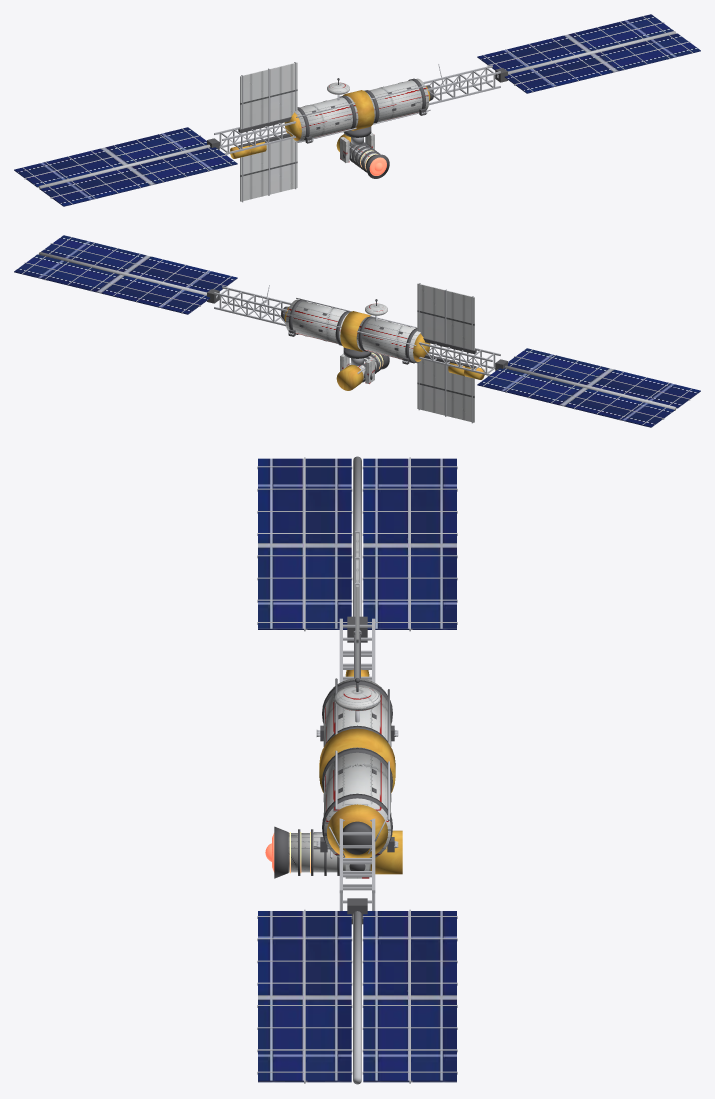
Rendered from station.glb.
3 views of the same model, one above another, from view 1: azimuth 30°, elevation 25°; view 2: azimuth 150°, elevation 25°; view 3: azimuth 270°, elevation 25° (orthographic). The views are drawn at different scales.
Parts seen in each view (by area): view 1: WingLPanel0, WingRPanel0, WingLPanel1, WingRPanel1, RadTPanel, RadBPanel, Hab1, Hab2, Core, WingLMast, WingRMast, Beam01 (+1 smaller); view 2: WingLPanel1, WingRPanel1, WingLPanel0, WingRPanel0, RadTPanel, RadBPanel, Hab1, Hab2, Core, WingLMast, WingRMast, Breech (+2 smaller); view 3: WingRPanel0, WingRPanel1, WingLPanel0, WingLPanel1, Hab2, Hab1, Core, Cap2, WingRMast, Barrel, WingLMast.
Part boxes in pixels (<box>): WingLPanel0: <box>40,147,237,206</box>; WingRPanel0: <box>504,33,700,93</box>; WingLPanel1: <box>14,127,206,187</box>; WingRPanel1: <box>477,14,673,71</box>; RadTPanel: <box>240,62,297,129</box>; RadBPanel: <box>240,138,297,201</box>; Hab1: <box>294,96,358,142</box>; Hab2: <box>366,78,429,122</box>; Core: <box>343,90,374,130</box>; WingLMast: <box>38,144,210,189</box>; WingRMast: <box>497,31,676,78</box>; Beam01: <box>222,71,500,140</box>; WingLPanel1: <box>477,368,674,427</box>; WingRPanel1: <box>14,254,210,314</box>; WingLPanel0: <box>508,348,700,408</box>; WingRPanel0: <box>41,235,237,292</box>; RadTPanel: <box>417,283,474,350</box>; RadBPanel: <box>417,359,474,422</box>; Hab1: <box>356,317,420,363</box>; Hab2: <box>285,299,348,343</box>; Core: <box>340,311,370,351</box>; WingLMast: <box>504,365,676,410</box>; WingRMast: <box>38,252,217,299</box>; Breech: <box>336,364,363,390</box>; WingRPanel0: <box>258,911,351,1082</box>; WingRPanel1: <box>363,911,456,1082</box>; WingLPanel0: <box>258,458,351,629</box>; WingLPanel1: <box>363,458,456,629</box>; Hab2: <box>324,747,390,857</box>; Hab1: <box>324,678,390,746</box>; Core: <box>319,728,395,793</box>; Cap2: <box>326,804,388,857</box>; WingRMast: <box>353,911,361,1084</box>; Barrel: <box>288,833,370,872</box>; WingLMast: <box>353,456,361,634</box>.
Bounding box in the file's own units: 101 × 19.1 × 13.7.
8 materials, 4 textured.
